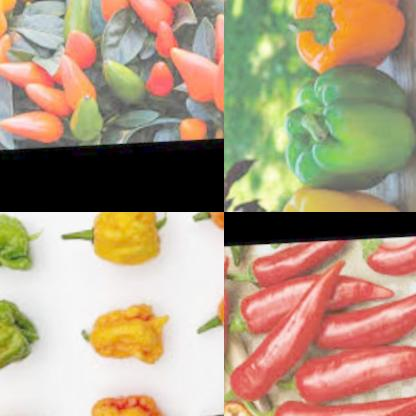bell pepper: (280, 66, 416, 191), (283, 0, 404, 73), (265, 184, 409, 212)
hot pepper: (224, 255, 354, 416), (0, 15, 112, 150), (232, 274, 397, 348), (280, 336, 416, 414), (290, 283, 416, 357), (69, 290, 171, 368), (56, 212, 169, 281), (234, 244, 355, 296), (96, 0, 224, 49), (240, 390, 416, 416), (166, 37, 220, 111), (184, 271, 224, 362), (354, 239, 416, 291), (58, 389, 175, 416), (93, 52, 144, 111), (0, 293, 34, 380), (0, 212, 35, 279), (56, 0, 104, 45), (0, 0, 44, 45), (136, 55, 167, 99), (169, 108, 209, 141), (204, 54, 224, 119)
